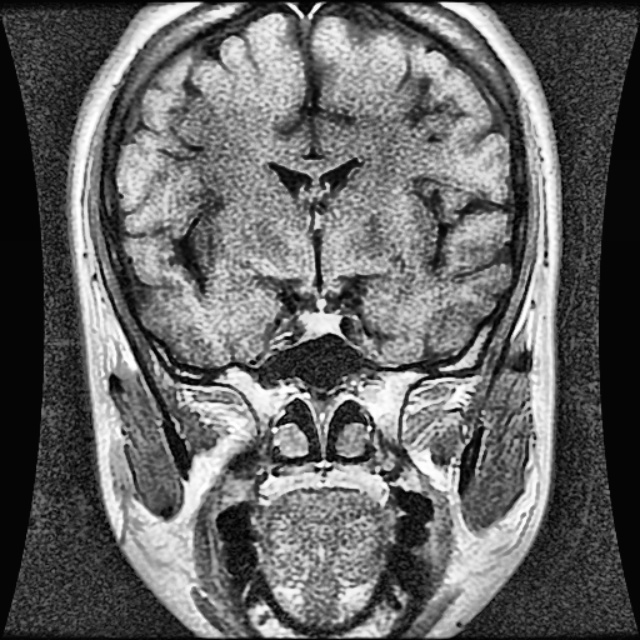Pituitary: (308, 310, 338, 332)
